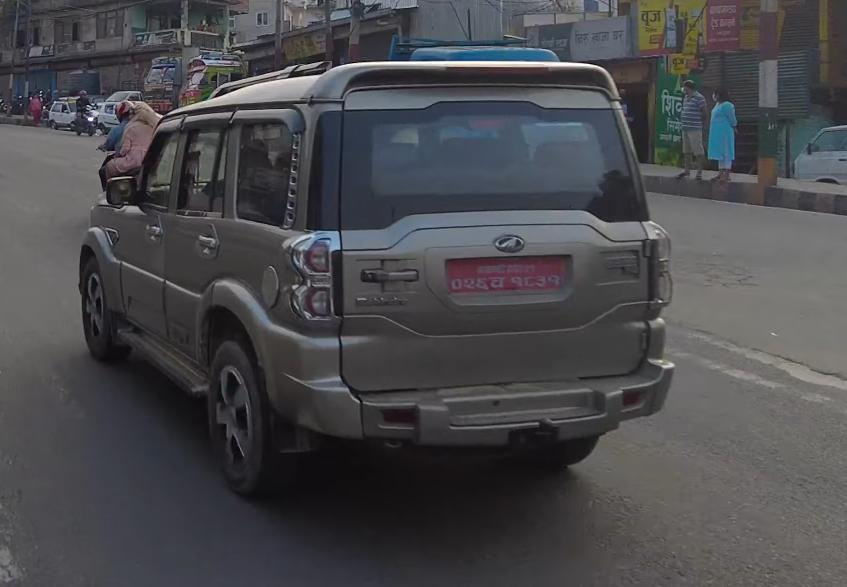SUV: (71, 38, 678, 500)
